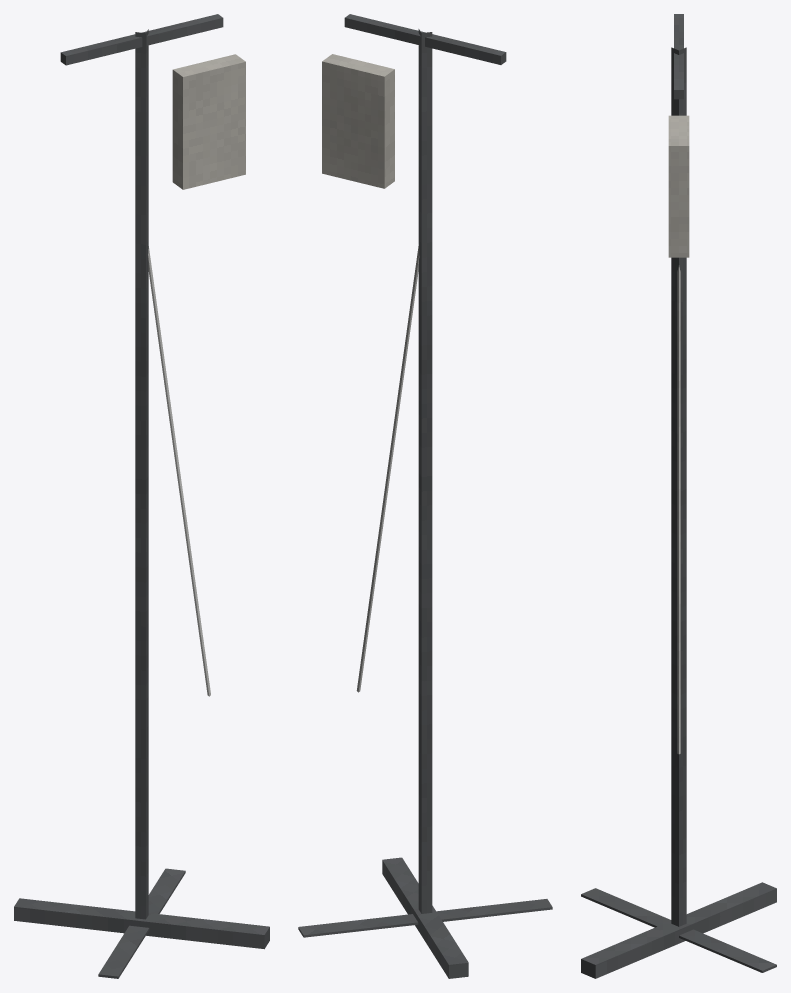
Rendered from int_iv_stand.glb.
3 renders of one model, left to right at view 1: azimuth 30°, elevation 25°; view 2: azimuth 150°, elevation 25°; view 3: azimuth 270°, elevation 25°, orthographic.
Visible parts, largest first — view 1: detail; view 2: detail; view 3: detail.
Boxes of the visible parts, x1=… form: detail: x1=14, y1=14, x2=269, y2=978; detail: x1=298, y1=14, x2=552, y2=978; detail: x1=581, y1=14, x2=776, y2=978.
Size of what is drawn, in the model's own units: 0.4109 by 1.92 by 0.3818.
3 materials, 3 textured.
